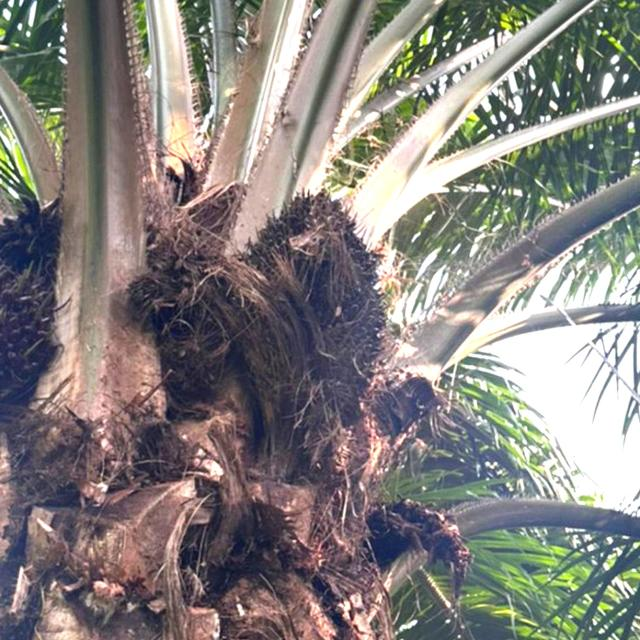unripe: (247, 179, 390, 428), (0, 251, 67, 416)
